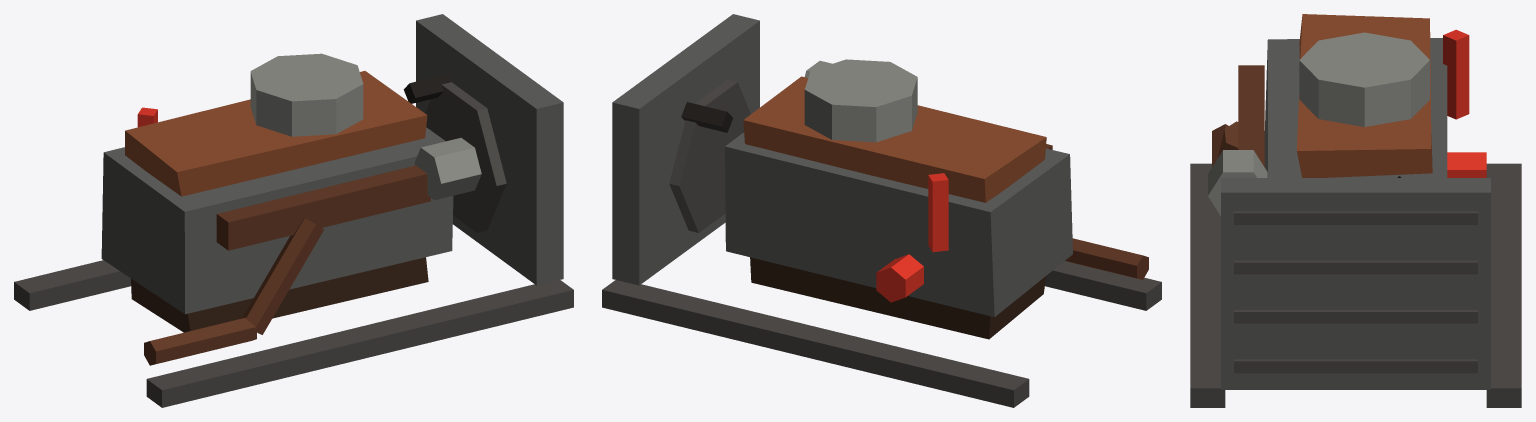
Rendered from eng_stock.glb.
3 views of the same model, side by side, from view 1: azimuth 30°, elevation 25°; view 2: azimuth 150°, elevation 25°; view 3: azimuth 270°, elevation 25° (orthographic). The views are drawn at different scales.
Parts seen in each view (by area): view 1: eng_stock; view 2: eng_stock; view 3: eng_stock.
Boxes of the visible parts, bbox=[...] form: eng_stock: bbox=[14, 14, 573, 407]; eng_stock: bbox=[602, 14, 1161, 407]; eng_stock: bbox=[1190, 14, 1521, 407].
Size of the model in its own units: 1.24 by 0.62 by 0.76.
